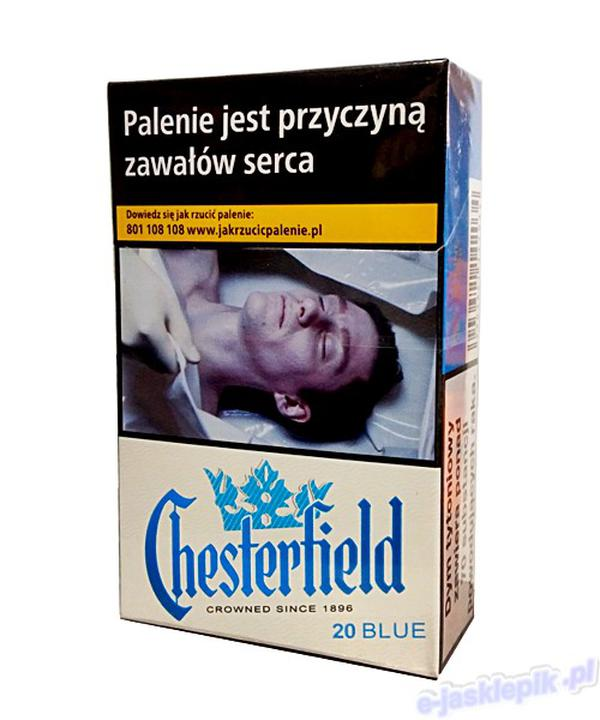chesterfield_blue: (117, 91, 441, 629)
